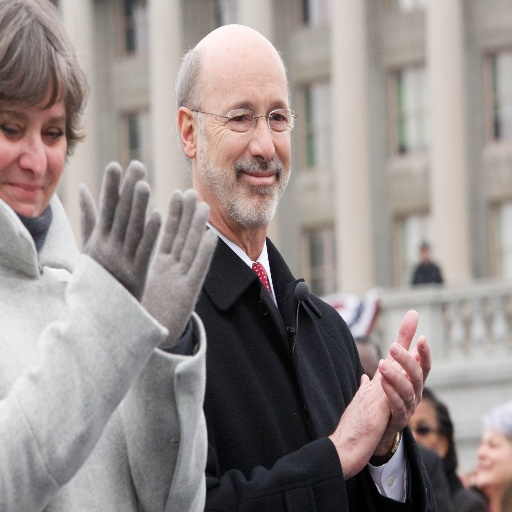hand: (328, 345, 422, 483), (140, 186, 219, 346), (76, 159, 161, 304)
